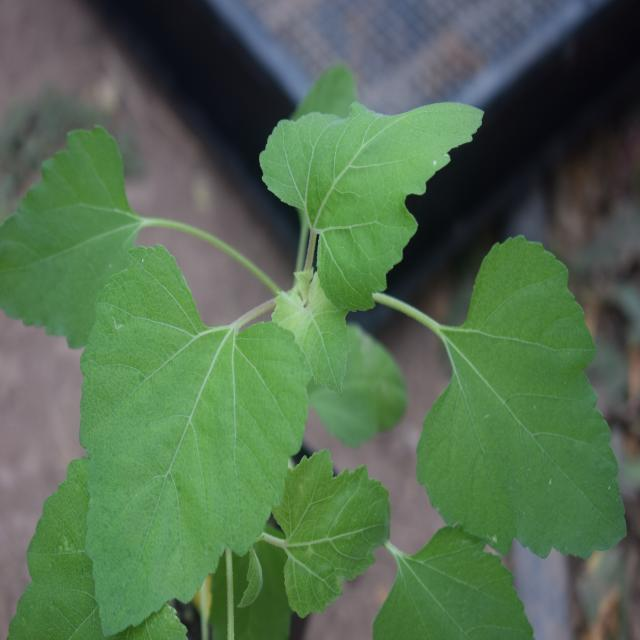cocklebur: (27, 107, 617, 621)
